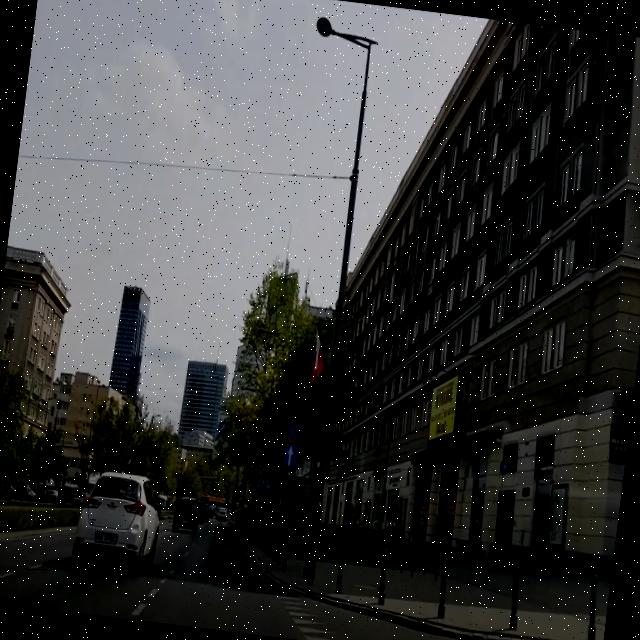Zakaz zatrzymywania sie: (285, 418, 300, 442)
